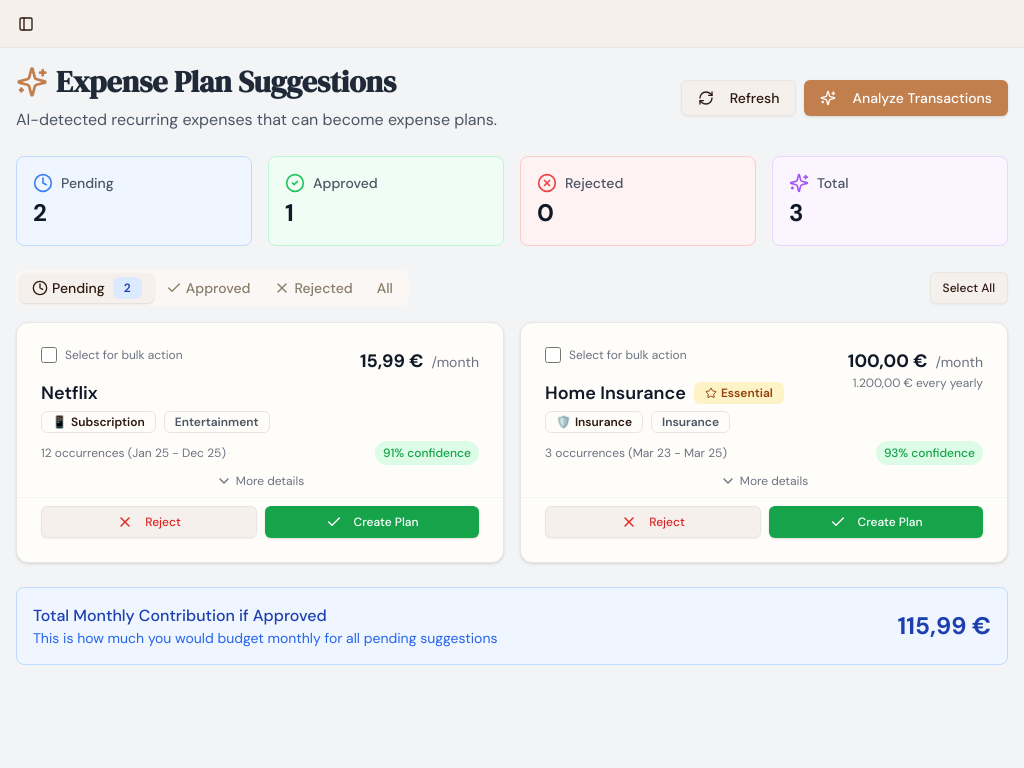
Test: Expense Plan Suggestions › Bulk Actions › should bulk reject selected suggestions
Note: Select all
Click the button "Select All" at (969, 288), box 930,272 -> 1008,304
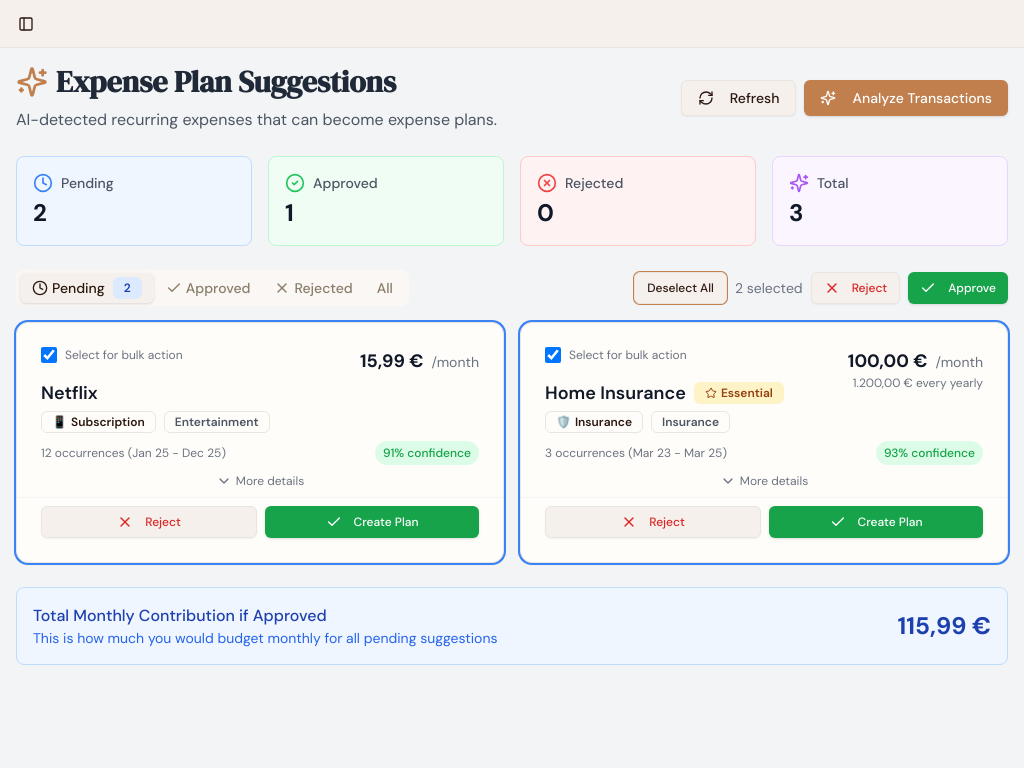
Click the button "Reject" next to "selected" at (856, 288), box 811,272 -> 901,304
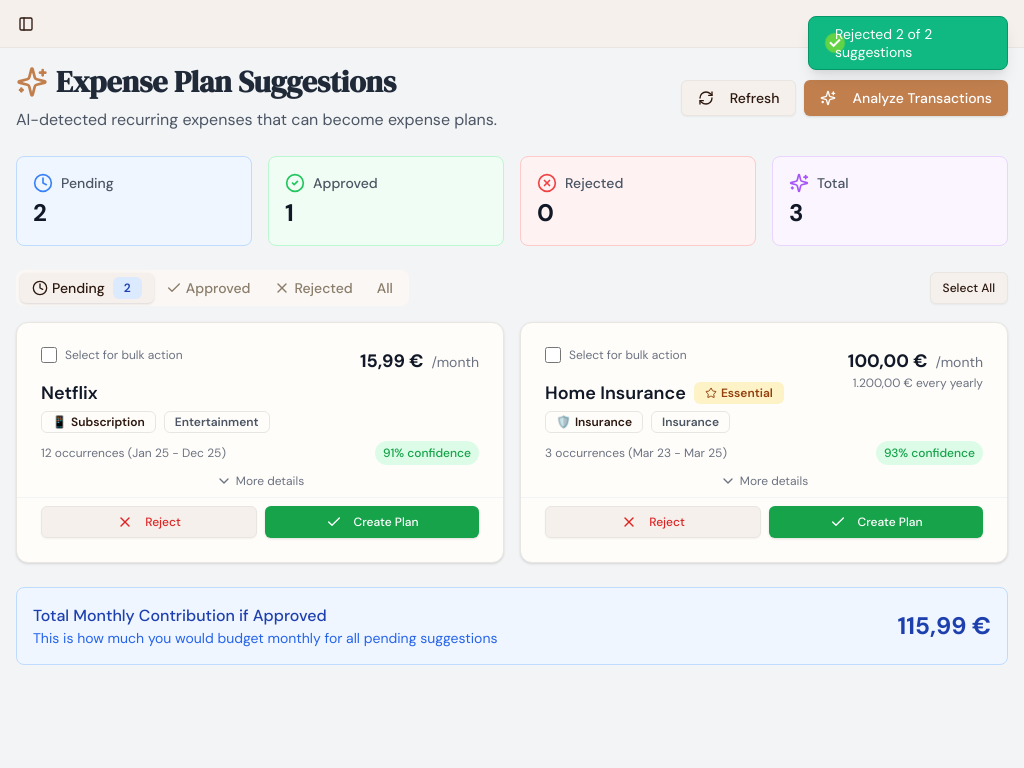
Now the text "Rejected 2 of 2" is shown, box 835,25 -> 932,61
